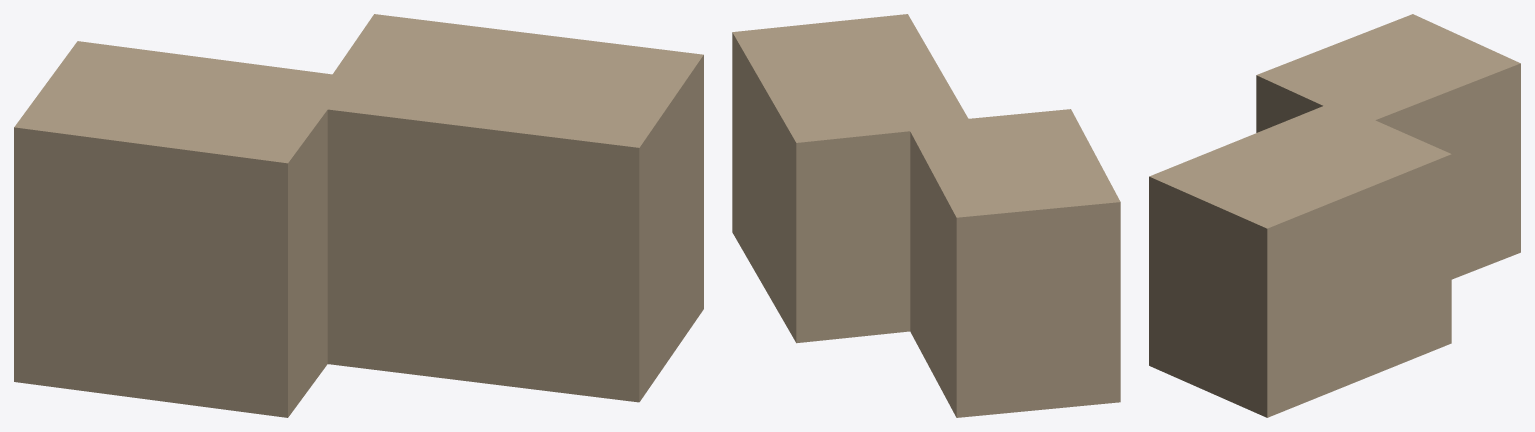
The model's file is bld_101289740.dae.
3 renders of one model, left to right at view 1: azimuth 30°, elevation 25°; view 2: azimuth 150°, elevation 25°; view 3: azimuth 270°, elevation 25°, orthographic. The views are drawn at different scales.
Parts seen in each view (by area): view 1: bld_101289740; view 2: bld_101289740; view 3: bld_101289740.
Boxes of the visible parts, left/top/right/bottom form: bld_101289740: left=14, top=14, right=703, bottom=417; bld_101289740: left=732, top=14, right=1120, bottom=417; bld_101289740: left=1149, top=14, right=1520, bottom=417.
Size of the model in its own units: 19.46 by 14.24 by 8.
